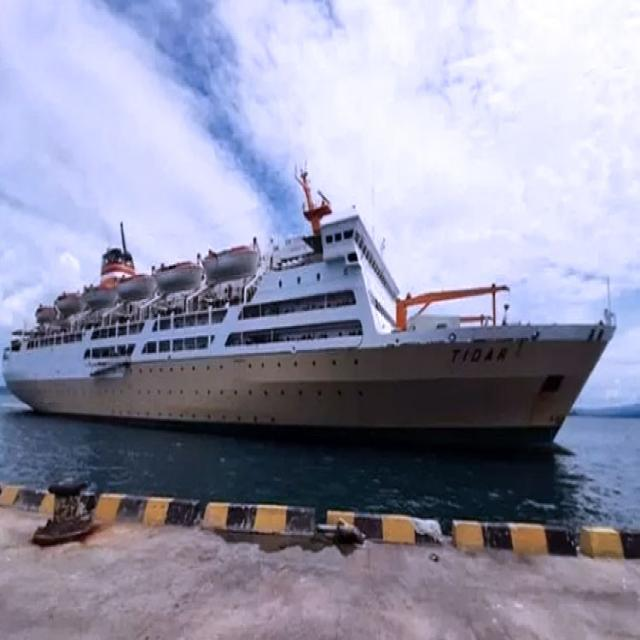PassengerShip: (6, 194, 615, 456)
